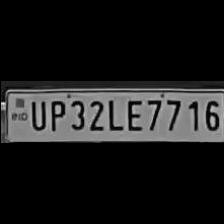1: (182, 96, 200, 132)
2: (86, 97, 104, 133)
3: (66, 96, 84, 132)
6: (200, 96, 222, 132)
7: (162, 97, 182, 133), (144, 96, 162, 132)
E: (122, 96, 144, 132)
L: (104, 97, 122, 131)
P: (45, 96, 65, 132)
U: (27, 97, 45, 130)
